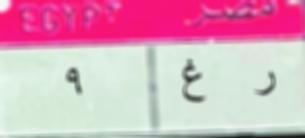9: (64, 64, 85, 97)
ghayn: (180, 54, 212, 108)
raa: (250, 69, 279, 103)
